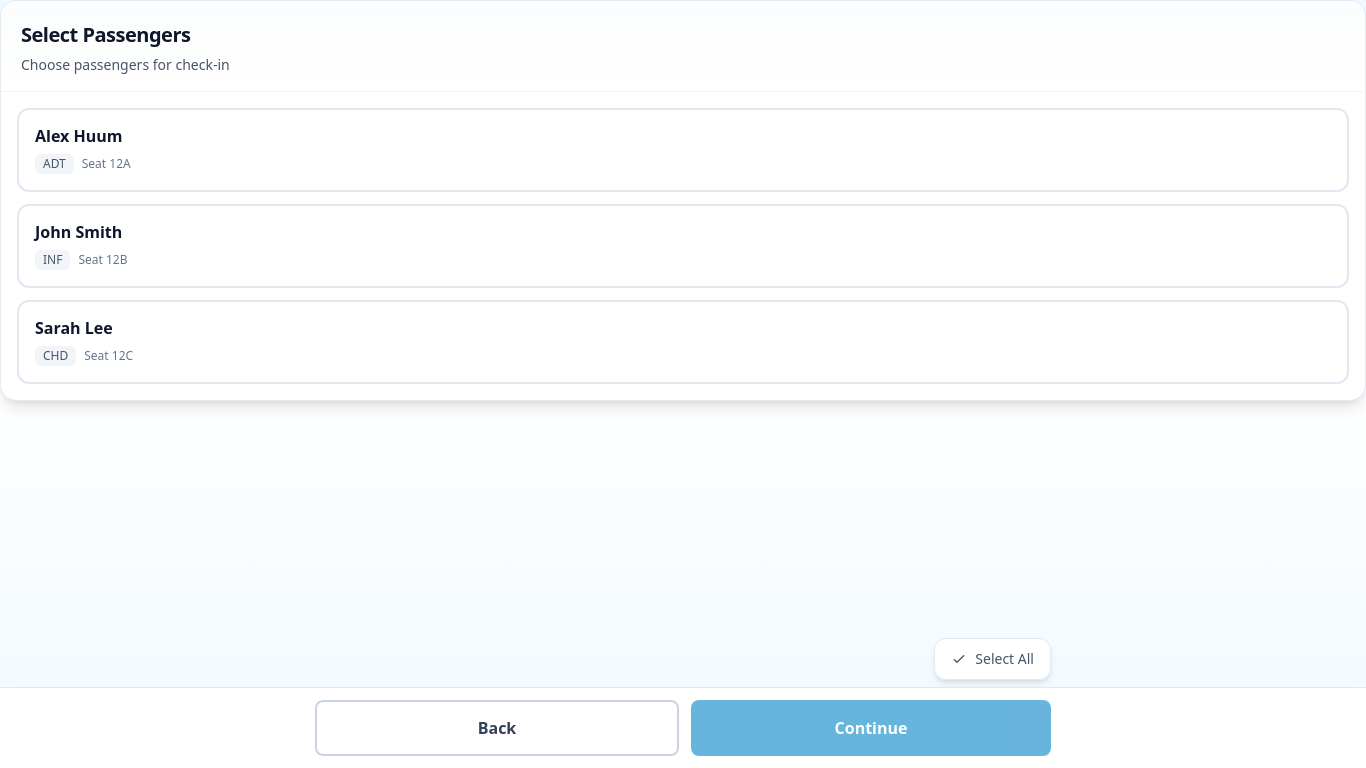
Test case: PassengerSelect › Edge Cases › should handle select all functionality
Click the button "Select All". click: (993, 659)
box: [934, 638, 1051, 680]
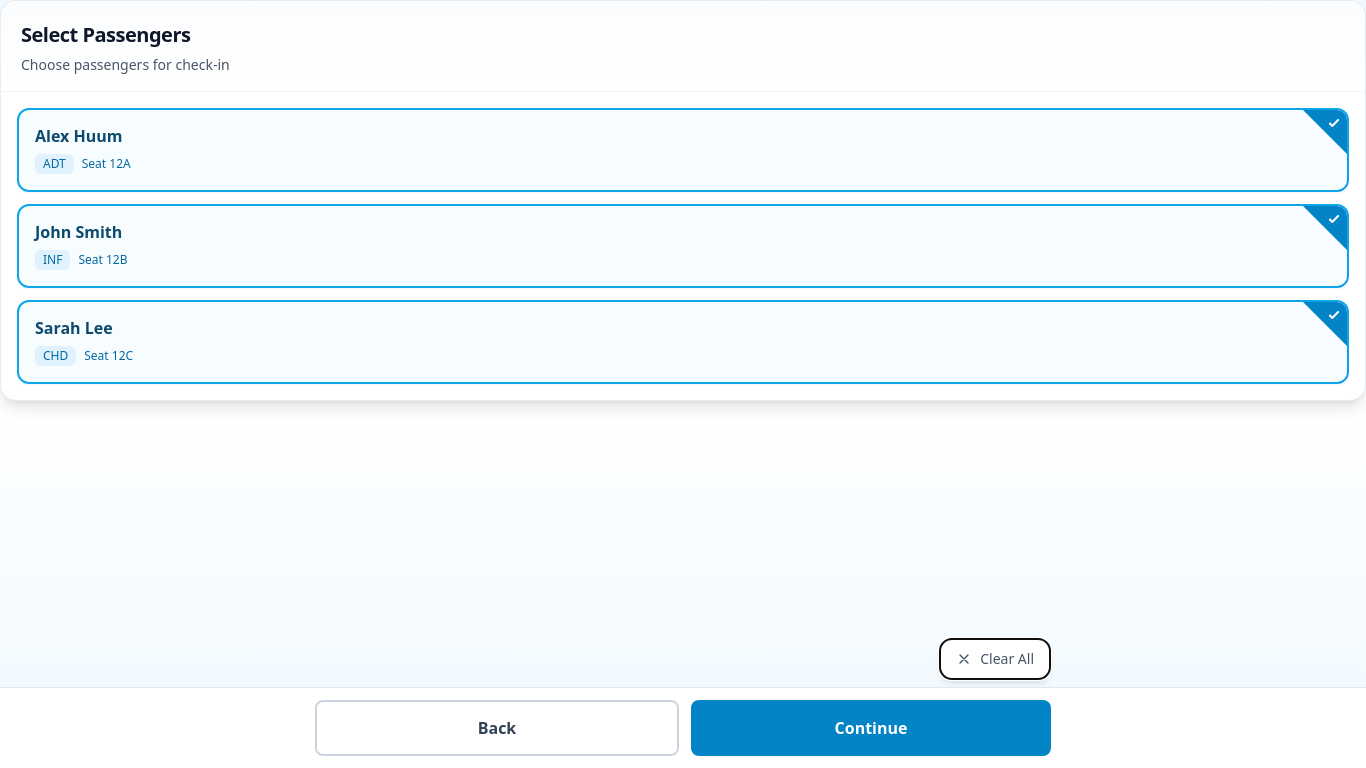
Check: the button "Continue" is enabled, box [691, 700, 1051, 756]
Check: the button "Clear All" is shown, box [939, 638, 1051, 680]
